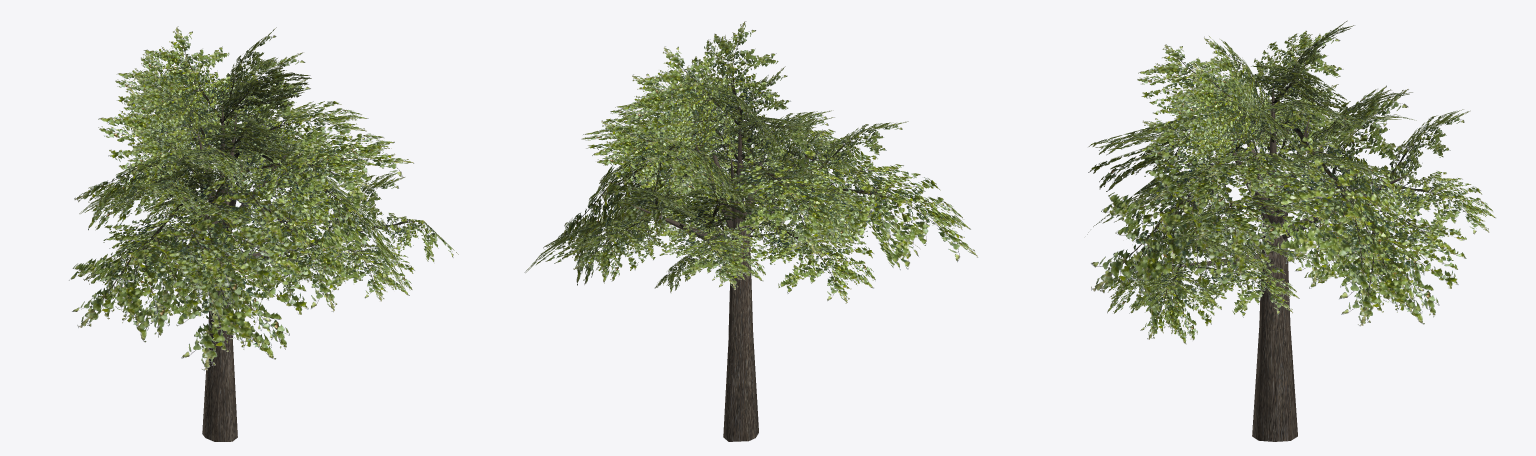
File: bosque_arbol.obj
3 renders of one model, left to right at view 1: azimuth 30°, elevation 25°; view 2: azimuth 150°, elevation 25°; view 3: azimuth 270°, elevation 25°, orthographic. The views are drawn at different scales.
Visible parts, largest first — view 1: PlaneFBXASC046044; view 2: PlaneFBXASC046044; view 3: PlaneFBXASC046044.
Part boxes in pixels (box(x1,y1,x2,y2)): PlaneFBXASC046044: box(69, 26, 458, 441); PlaneFBXASC046044: box(524, 21, 978, 441); PlaneFBXASC046044: box(1087, 20, 1495, 441).
Size of the model in its own units: 824 by 752 by 795.
Materials: 2 (2 with a texture image).
